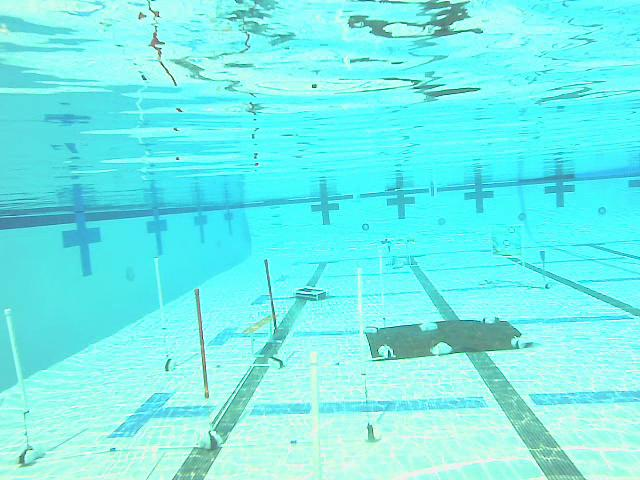black_poster: (186, 285, 229, 452), (252, 257, 291, 369)
white_poster: (0, 310, 47, 469), (350, 268, 386, 441), (144, 257, 177, 380)
